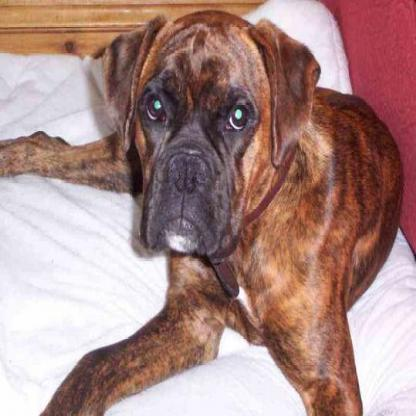boxer: (0, 8, 402, 413)
